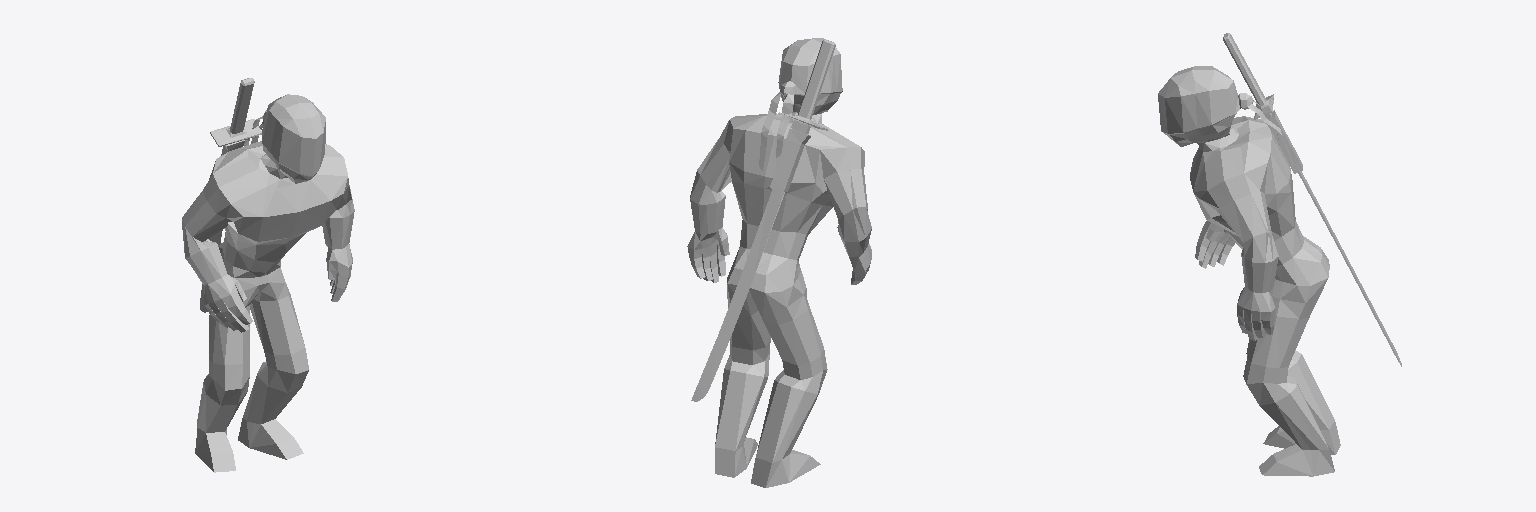
The model's file is OzeanRunning9.obj.
The picture shows the model from 3 angles: view 1: azimuth 30°, elevation 25°; view 2: azimuth 150°, elevation 25°; view 3: azimuth 270°, elevation 25°; orthographic projection.
Parts seen in each view (by area): view 1: WeebSword_pCube2; view 2: WeebSword_pCube2; view 3: WeebSword_pCube2.
Part boxes in pixels (x1,y1,x2,y2): WeebSword_pCube2: (182, 78, 354, 472); WeebSword_pCube2: (687, 38, 871, 487); WeebSword_pCube2: (1158, 33, 1401, 476).
Bounding box in the file's own units: 2.69 × 6.2 × 3.35.